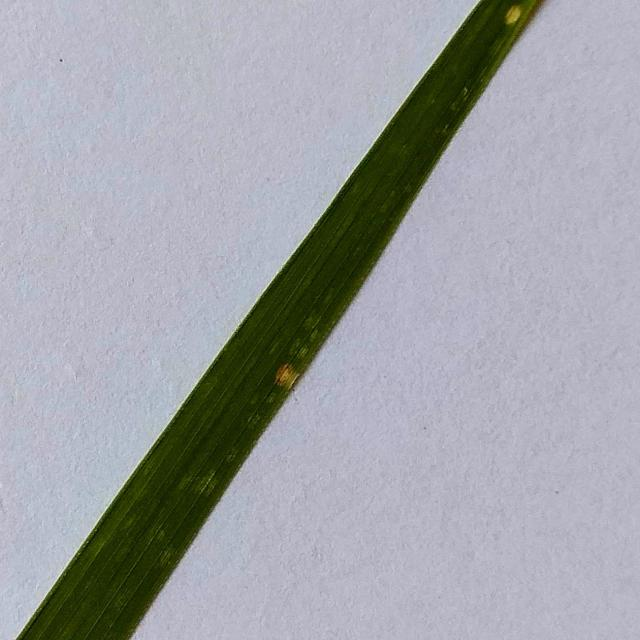Leaf_Blast: (264, 342, 310, 396), (499, 0, 526, 27)
